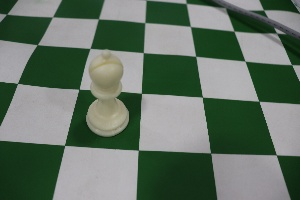white_bishop: (77, 39, 131, 142)
